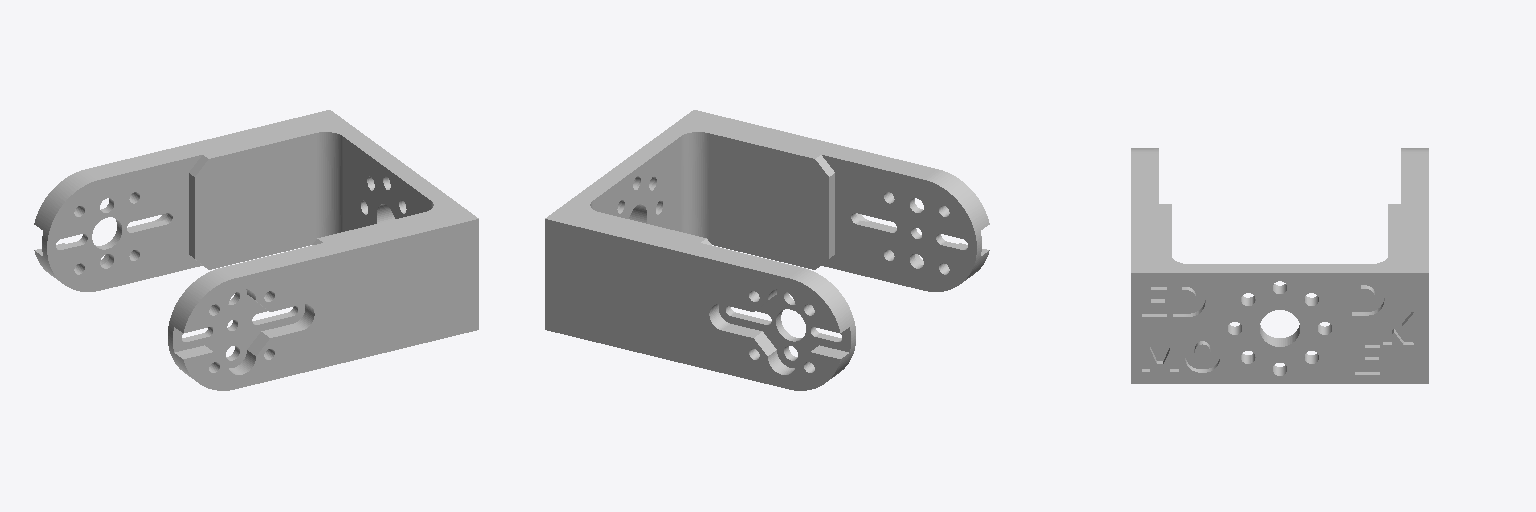
The model's file is EDMO1-1_Arm.obj.
The picture shows the model from 3 angles: view 1: azimuth 30°, elevation 25°; view 2: azimuth 150°, elevation 25°; view 3: azimuth 270°, elevation 25°; orthographic projection.
Visible parts, largest first — view 1: EDMO1-1_Arm; view 2: EDMO1-1_Arm; view 3: EDMO1-1_Arm.
Boxes of the visible parts, <box> form: EDMO1-1_Arm: <box>34,110,478,390</box>; EDMO1-1_Arm: <box>545,110,989,390</box>; EDMO1-1_Arm: <box>1131,148,1428,383</box>.
Bounding box in the file's own units: 4.2 × 1.5 × 3.65.